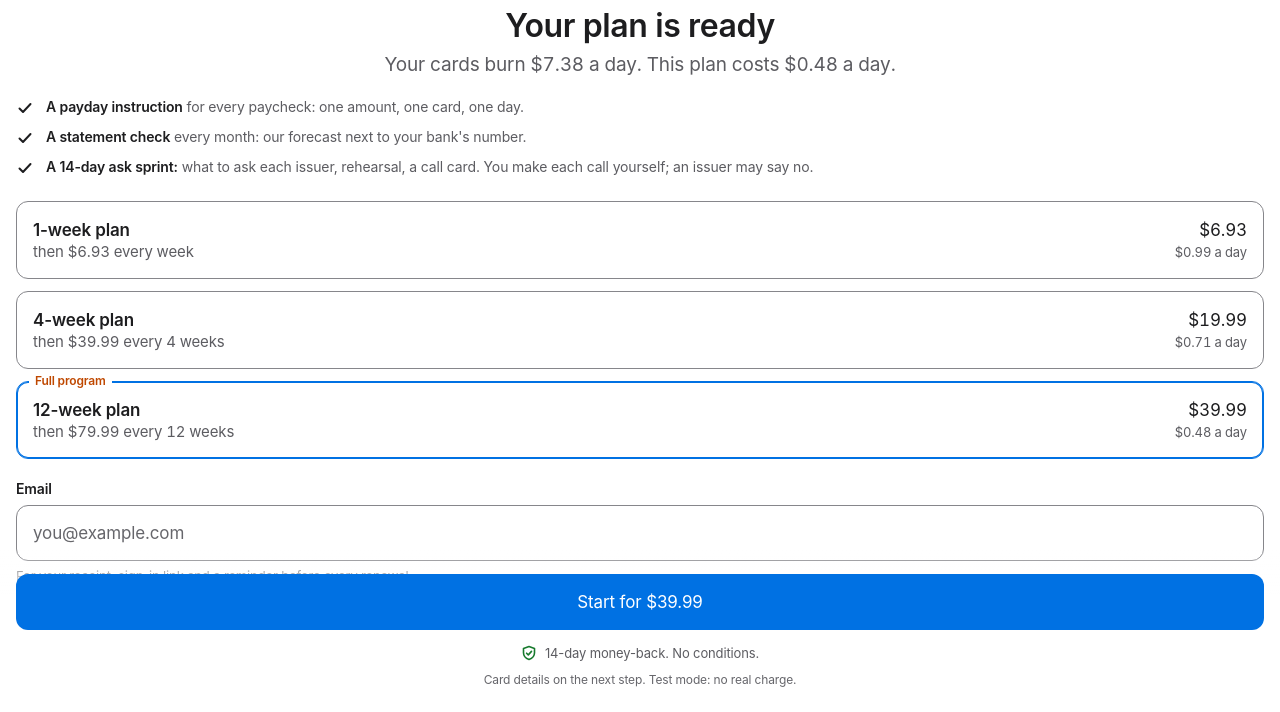
it: PaywallForm › clears the highlight and proceeds once the box is ticked
Later steps or results of the test are not shown.
Type "maya@example.com" into the field with test id "plan-email" at (640, 533), box [16, 505, 1264, 561]
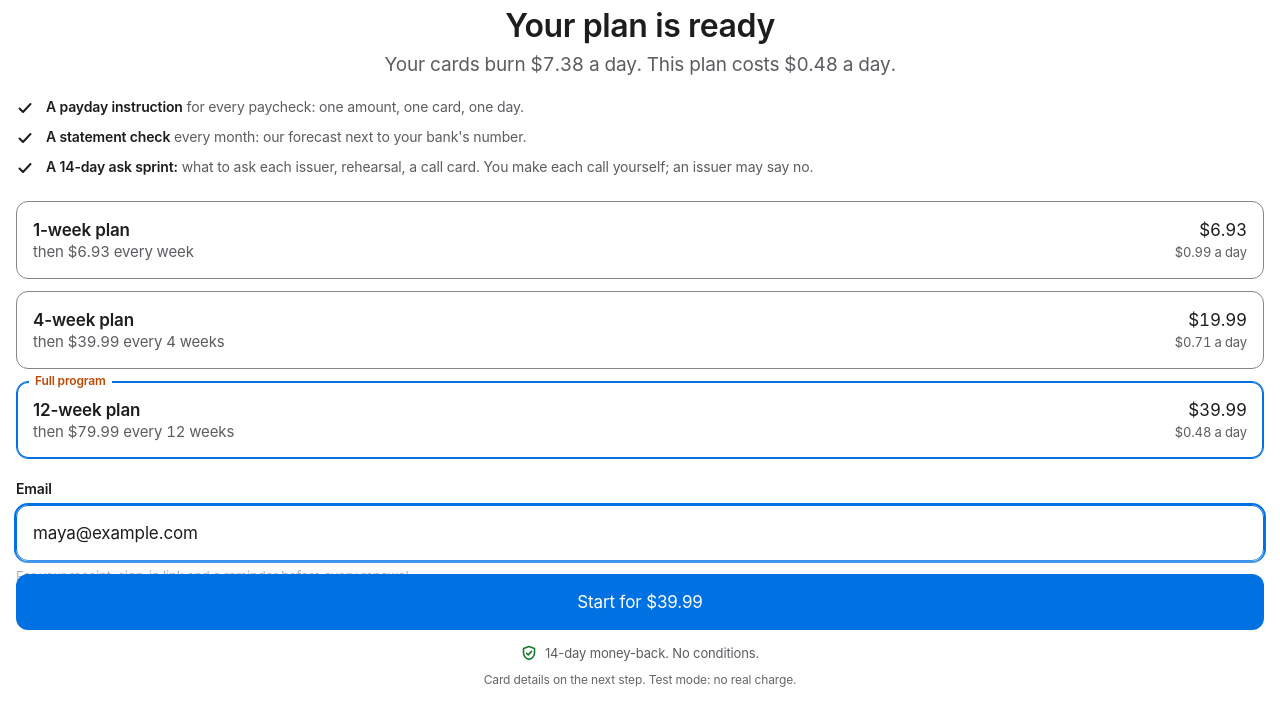
Click the button with test id "plan-cta" at (640, 602), box [16, 574, 1264, 630]
(page scrolled)
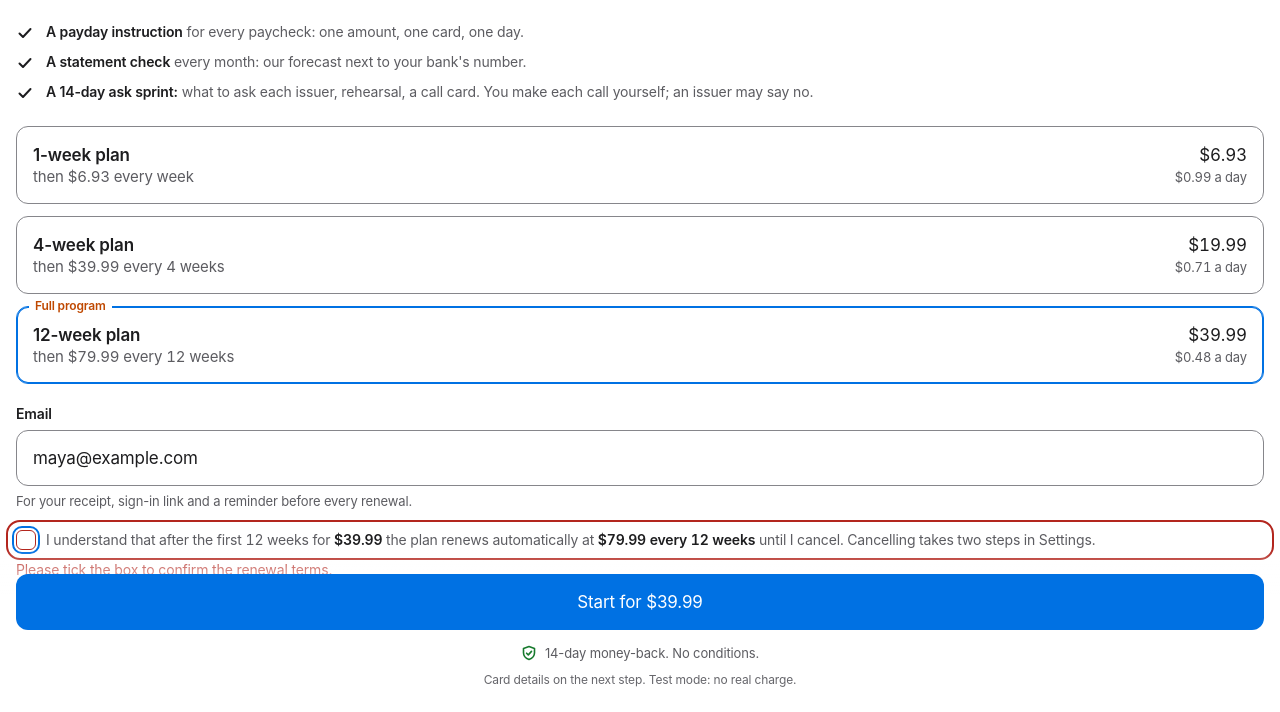
Click the checkbox with test id "plan-consent" at (26, 540), box [16, 530, 36, 550]
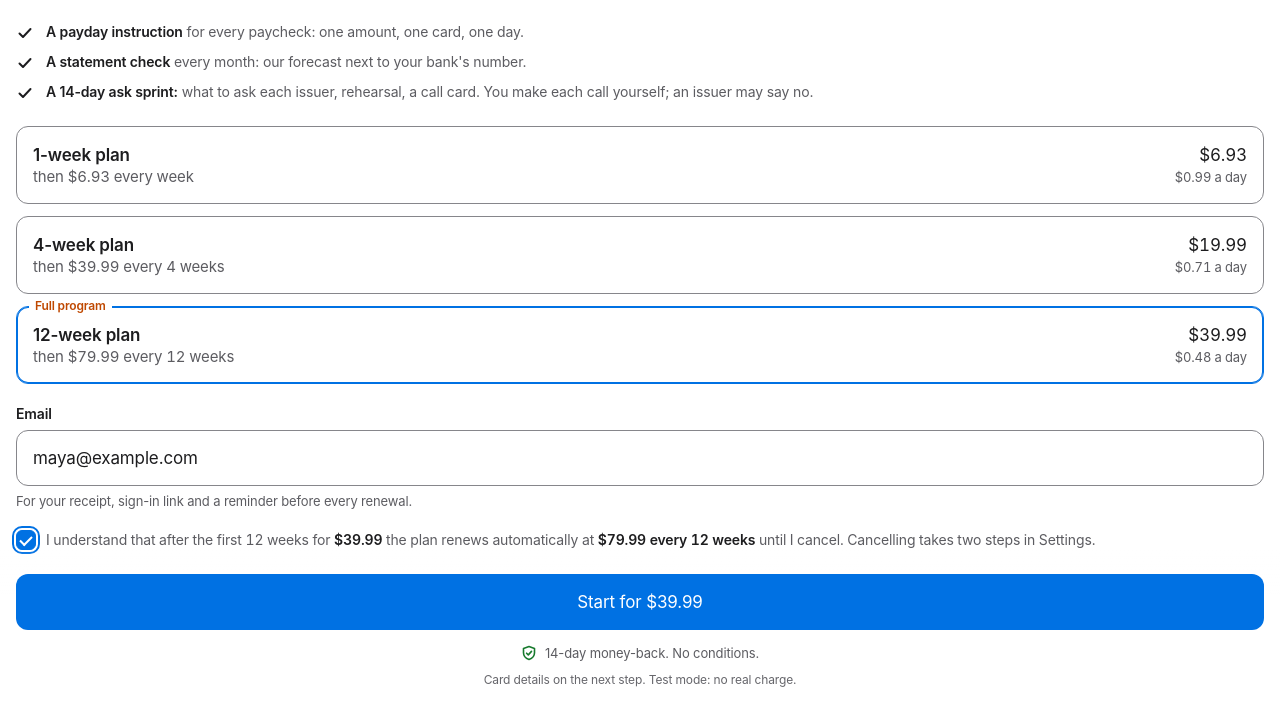
Expected: the label with test id "plan-consent" does not have class "need", [16, 530, 1264, 550]
